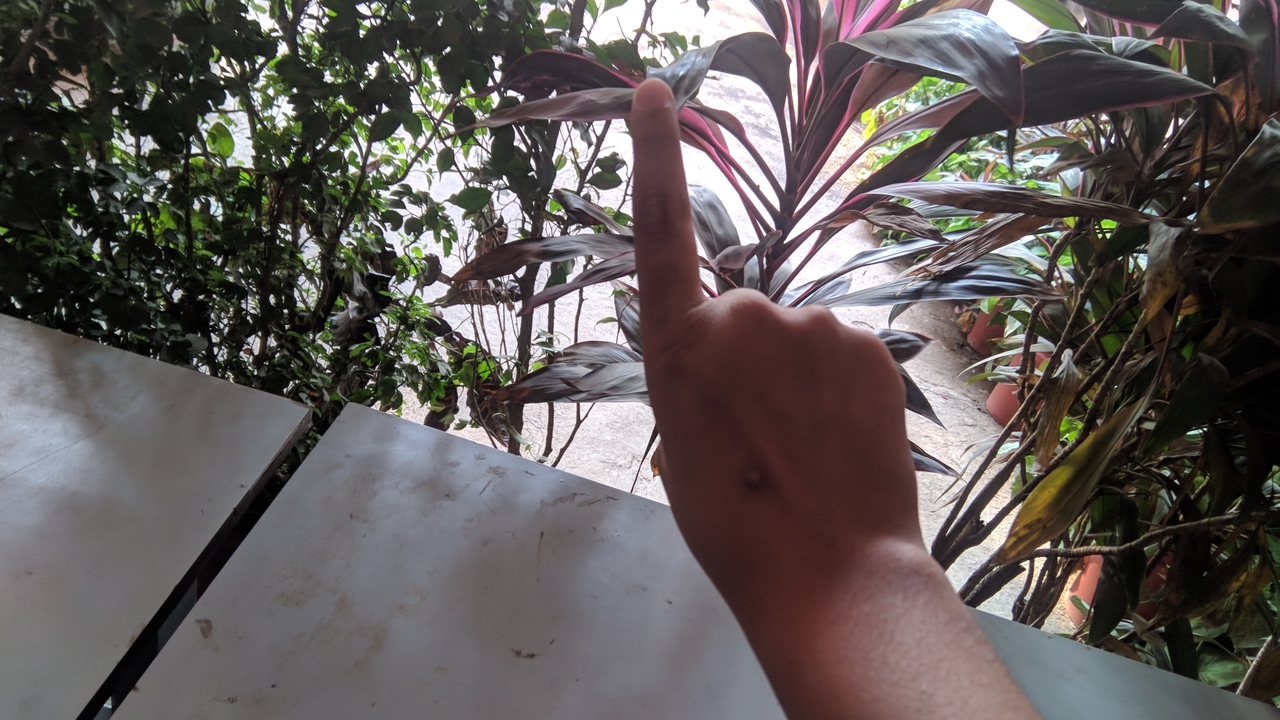fingertip: (630, 70, 680, 120)
